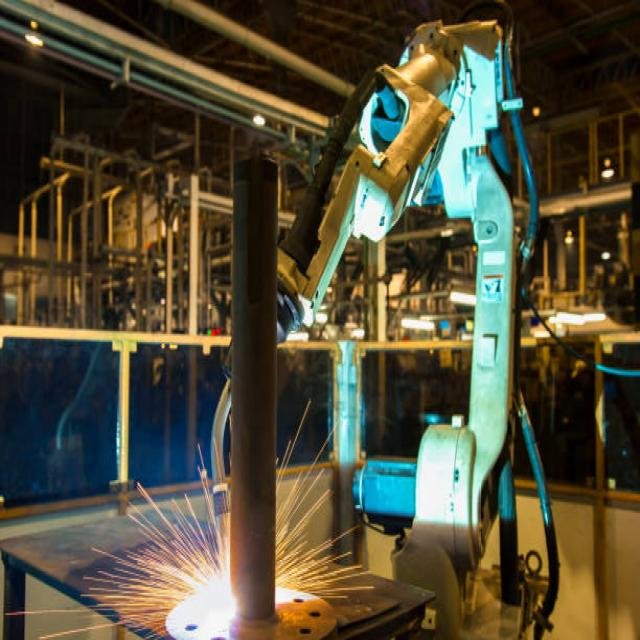Robotic-arm: (294, 10, 531, 603)
